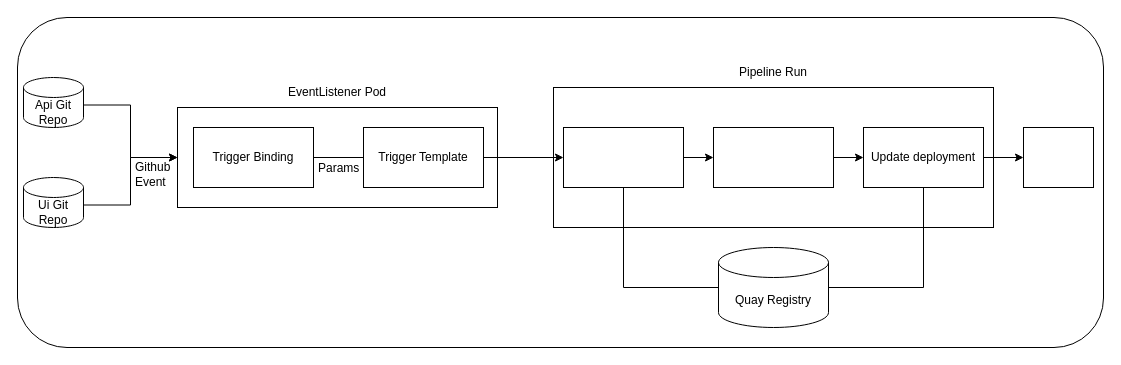
Image size: 1121x365. Some labels were removed from this diagram. The box of each missing label's shape, as (x1, y1, x2, y2) in pixels:
Apply manifest: (712, 126, 834, 188)
Build & push image: (562, 126, 684, 188)
OpenShift: (1022, 126, 1094, 188)
